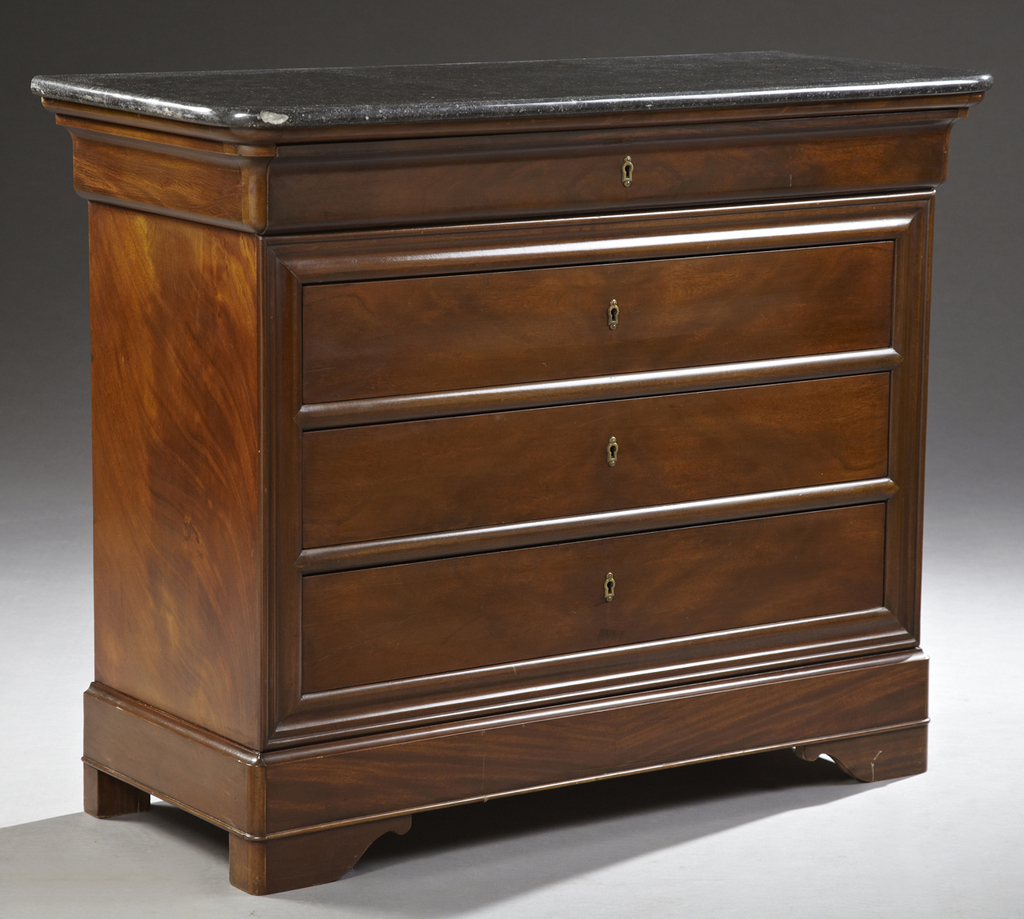cabinet door: (300, 355, 894, 482), (308, 495, 884, 611), (302, 244, 891, 351), (295, 152, 925, 199)
